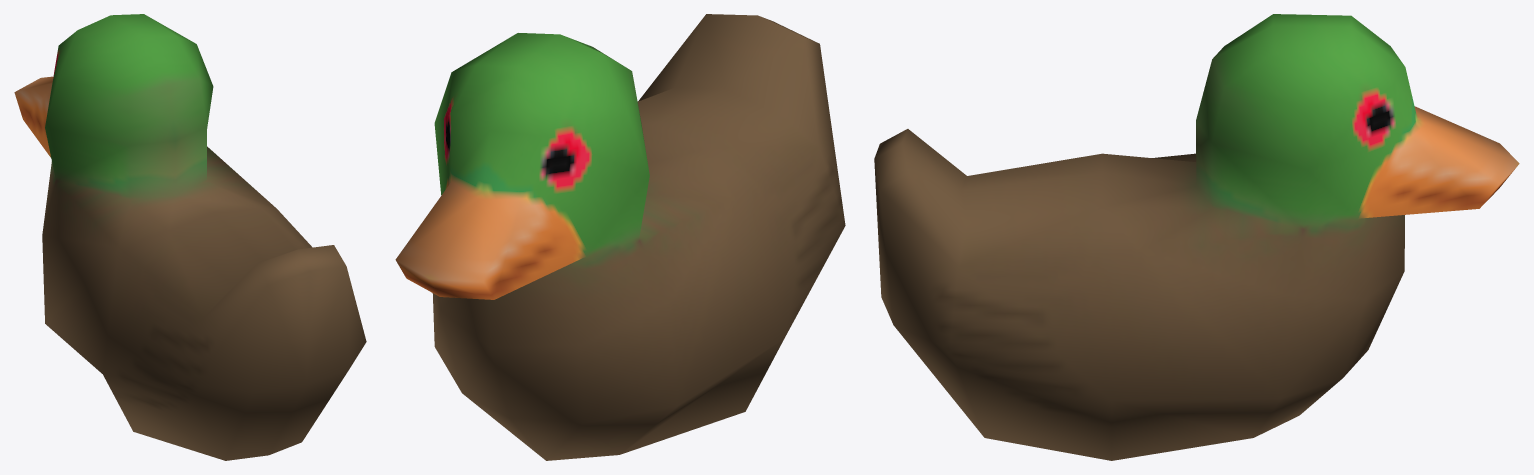
Rendered from duck_tenorphans.FBX.
The picture shows the model from 3 angles, left to right: view 1: azimuth 30°, elevation 25°; view 2: azimuth 150°, elevation 25°; view 3: azimuth 270°, elevation 25°; orthographic projection. The views are drawn at different scales.
Parts seen in each view (by area): view 1: Untitled.002; view 2: Untitled.002; view 3: Untitled.002.
Boxes of the visible parts, left/top/right/bottom form: Untitled.002: left=14, top=14, right=366, bottom=460; Untitled.002: left=395, top=14, right=845, bottom=460; Untitled.002: left=874, top=14, right=1519, bottom=460.
Bounding box in the file's own units: 0.1109 × 0.1598 × 0.2394.
